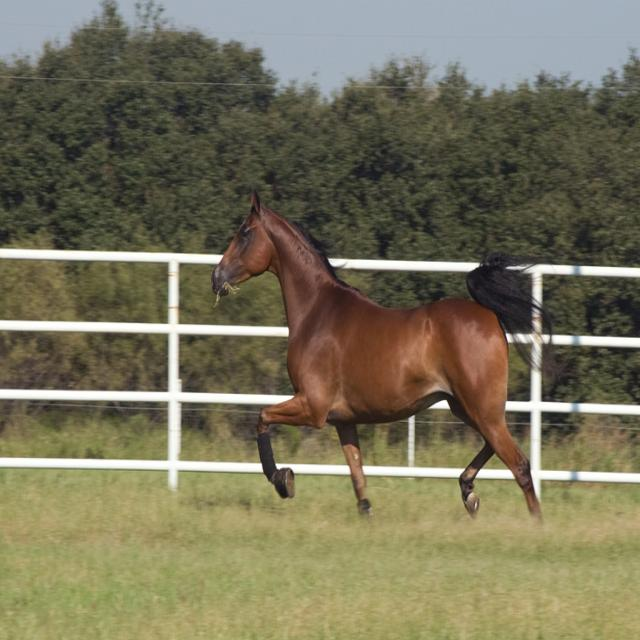Horse: (211, 186, 571, 526)
